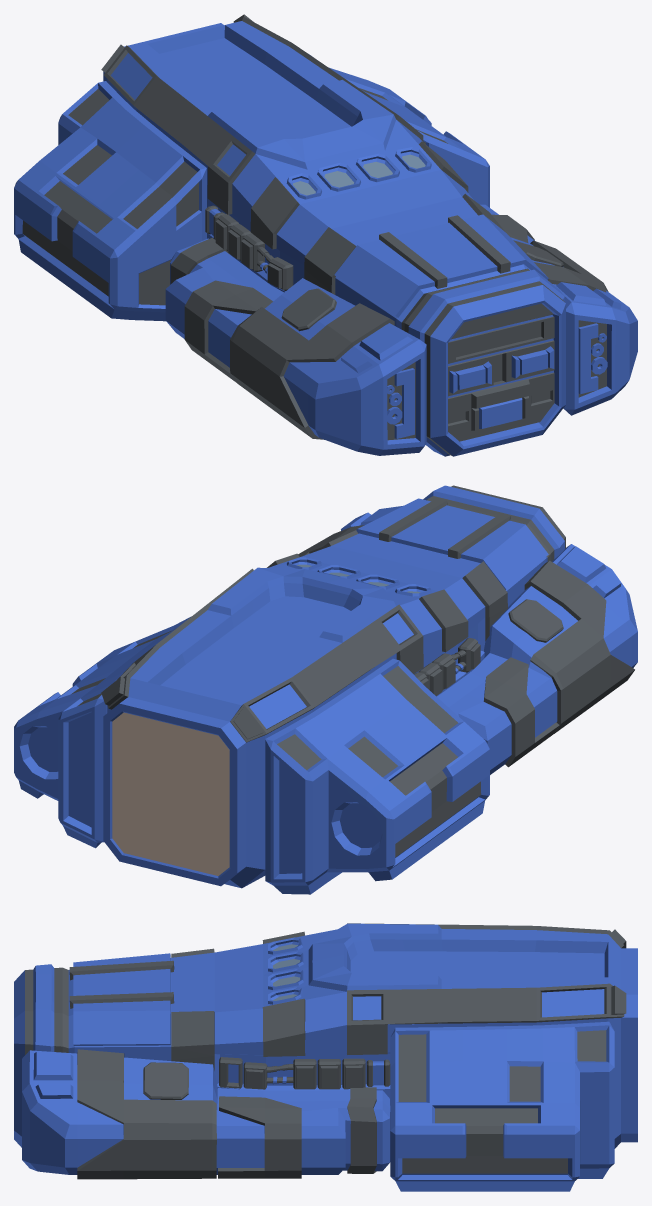
File: Mothership_01_Body_Blue.fbx
3 views of the same model, one above another, from view 1: azimuth 30°, elevation 25°; view 2: azimuth 150°, elevation 25°; view 3: azimuth 270°, elevation 25° (orthographic). The views are drawn at different scales.
Parts seen in each view (by area): view 1: Mothership_01_Body_Blue; view 2: Mothership_01_Body_Blue; view 3: Mothership_01_Body_Blue.
Part boxes in pixels (left/top/right/bottom): Mothership_01_Body_Blue: left=14, top=14, right=637, bottom=456; Mothership_01_Body_Blue: left=14, top=485, right=637, bottom=894; Mothership_01_Body_Blue: left=14, top=923, right=637, bottom=1191.
Bounding box in the file's own units: 4176 × 2023 × 6353.
3 materials, 3 textured.
